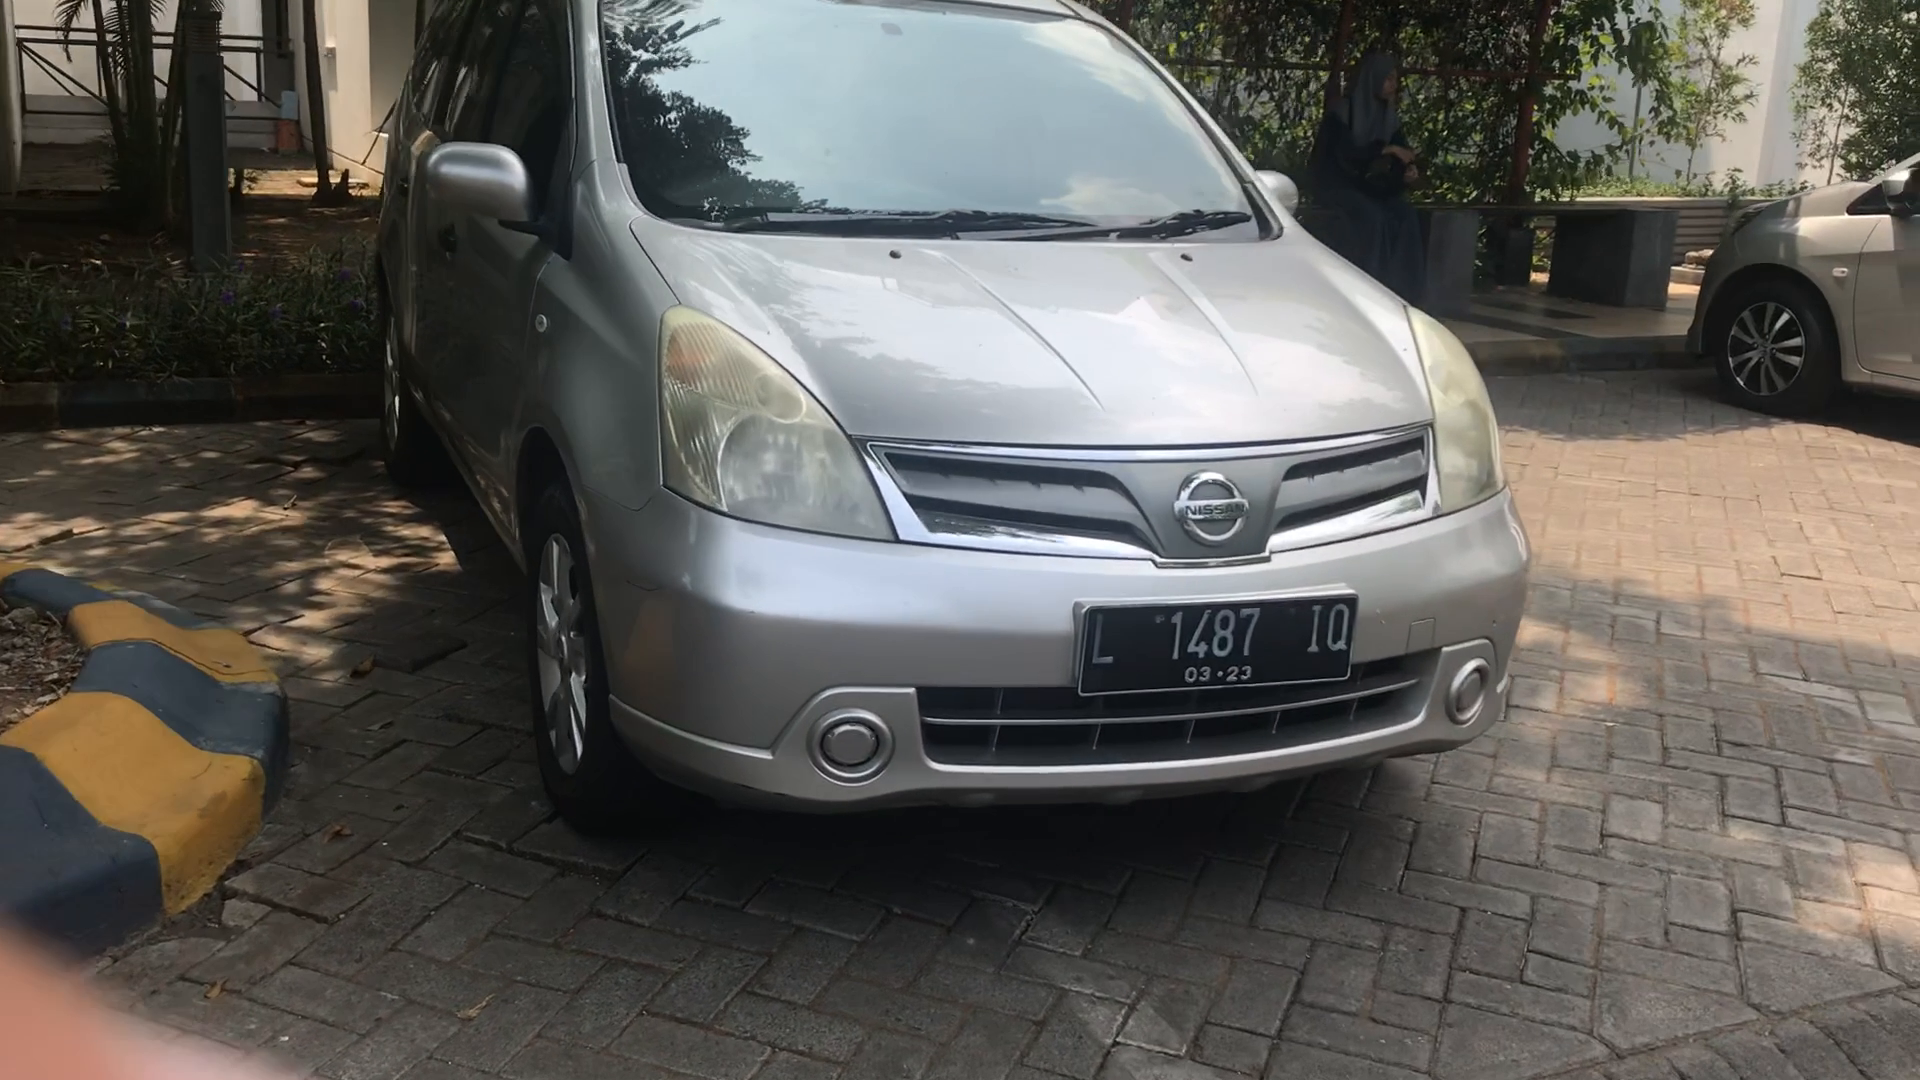plate: (1075, 600, 1360, 695)
